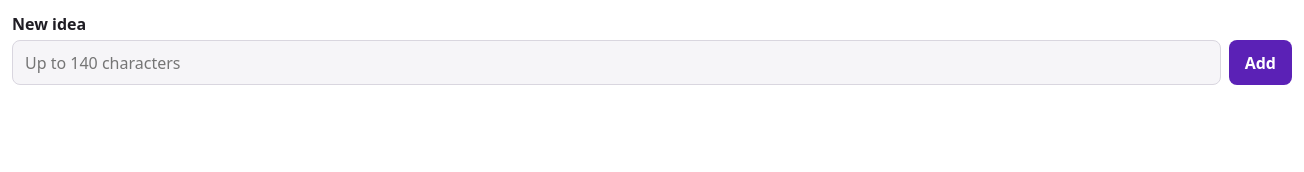
Test: IdeaForm › rejects empty input with a message announced as an alert
The image size is (1304, 172).
Step 1. Click the button "Add" → (1260, 63), box 1229,40 -> 1292,85
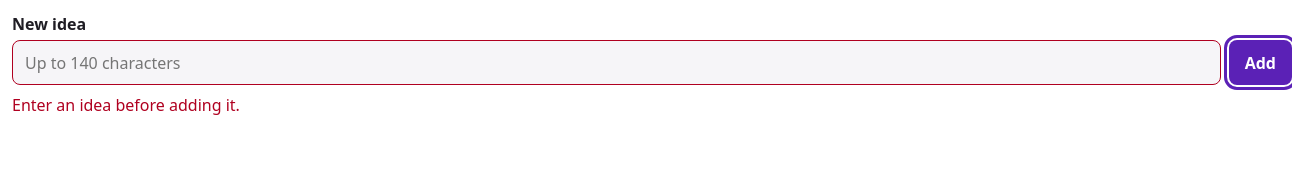
Now the message reads "Enter an idea before adding it.", box 12,94 -> 240,116
